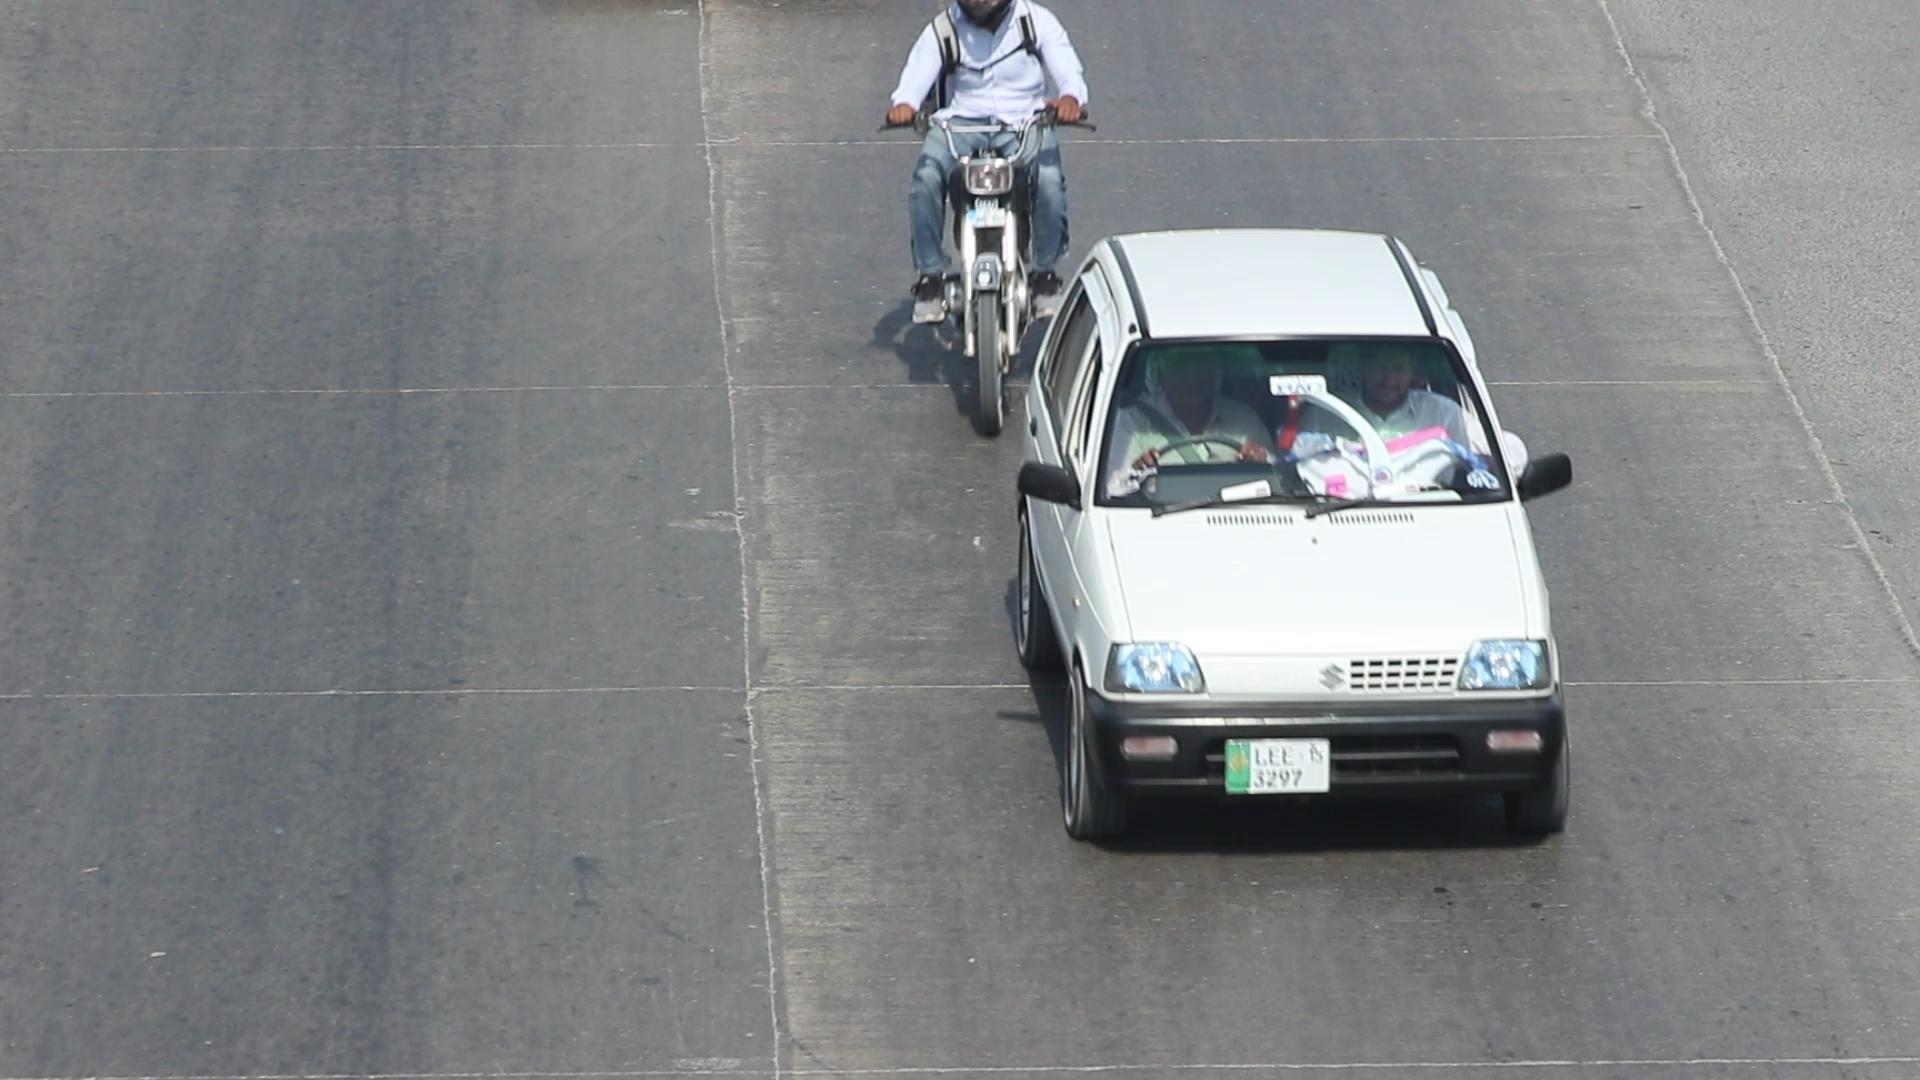windshield: (1087, 310, 1514, 513)
